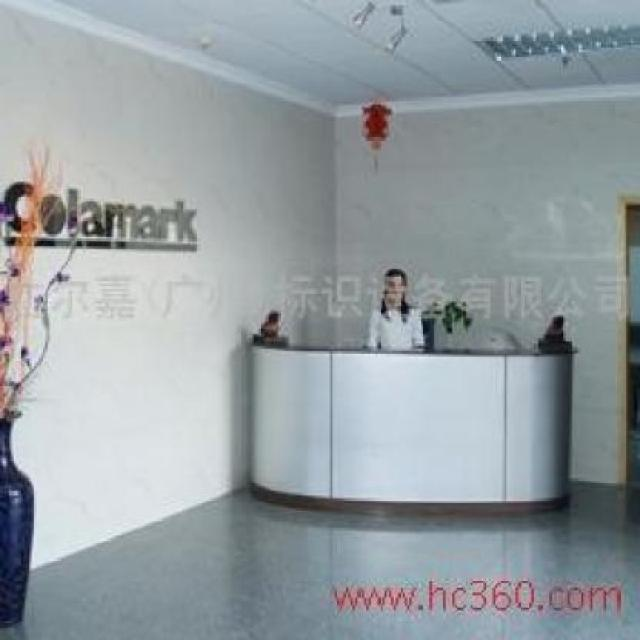frontdesk: (232, 314, 588, 528)
